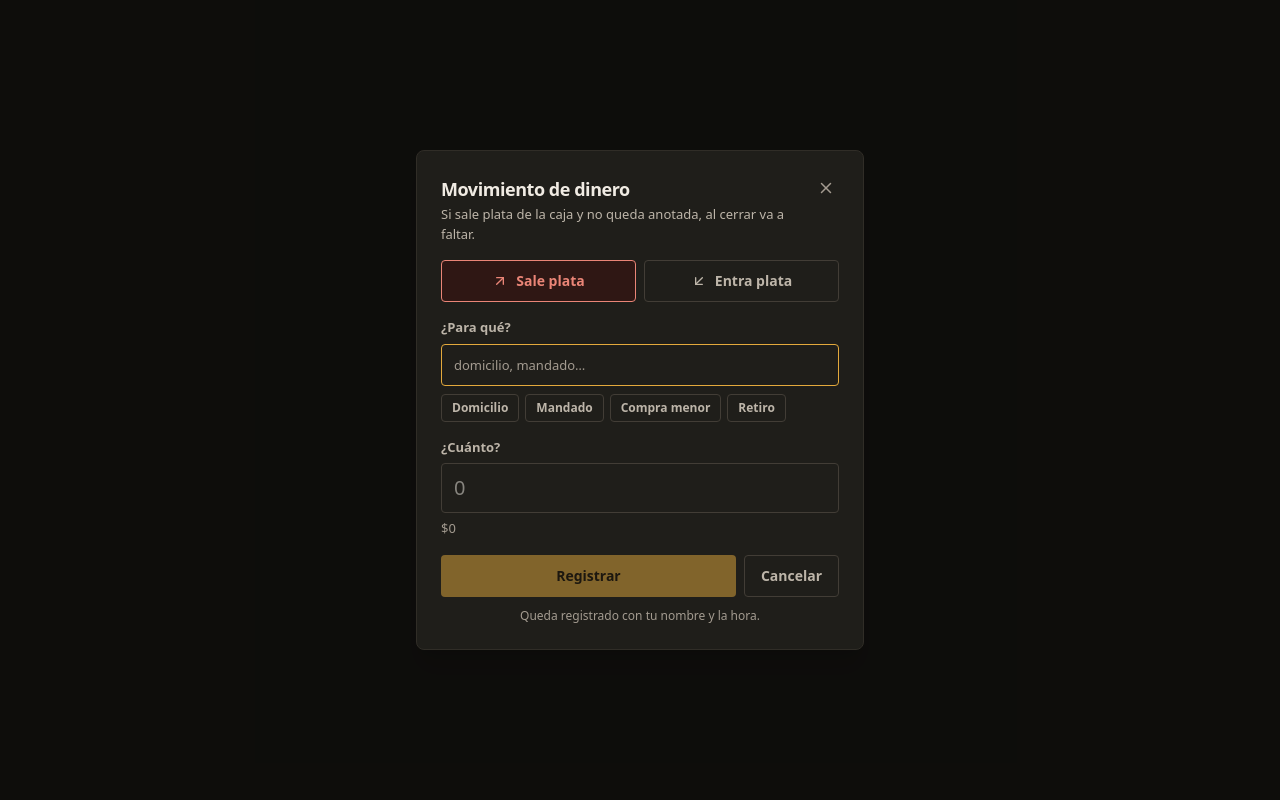
Test case: entra o sale › cambiar a entrada ofrece otros motivos
This screenshot has width=1280, height=800.
Expected: the button "Domicilio" is shown, [441,394,519,422]
Click the button "Entra plata". click: (742, 281)
box: [644,260,839,302]
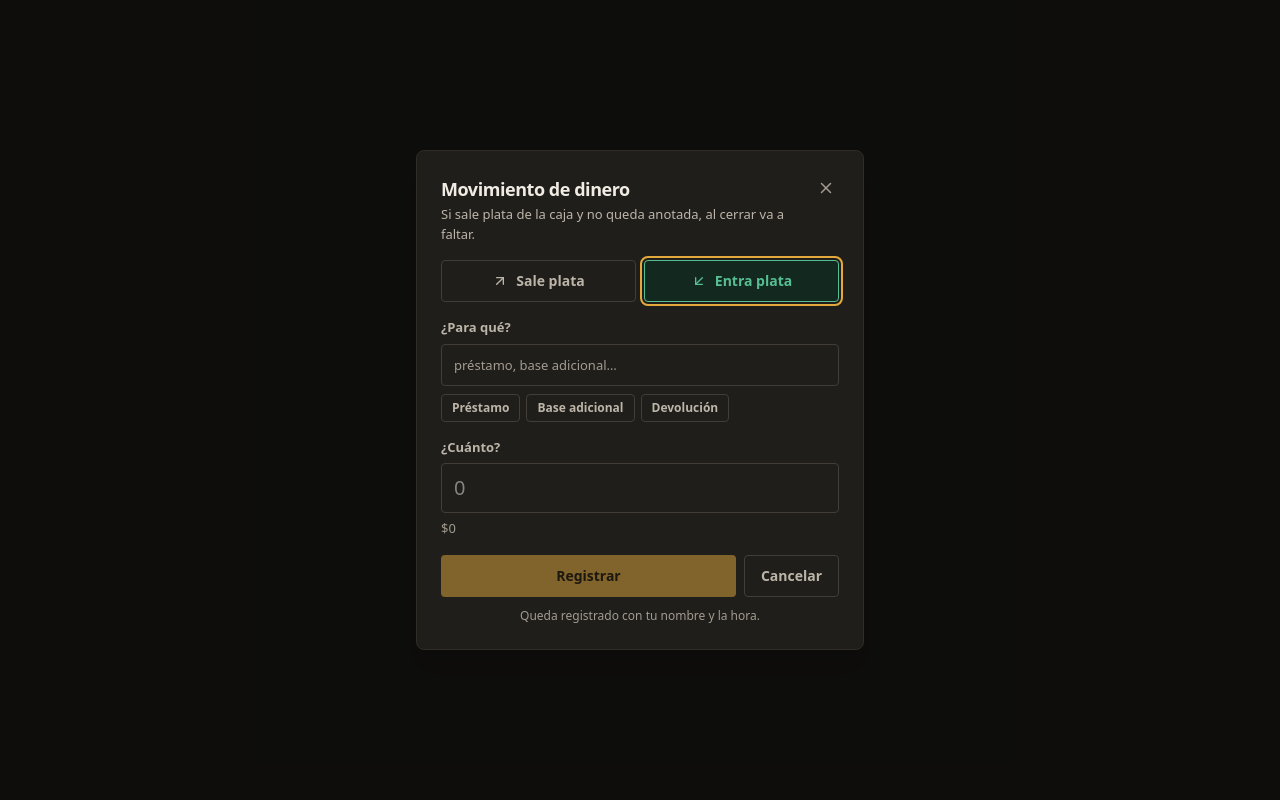
Expected: the button "Domicilio" is gone
Expected: the button "Préstamo" is shown, [441,394,520,422]
